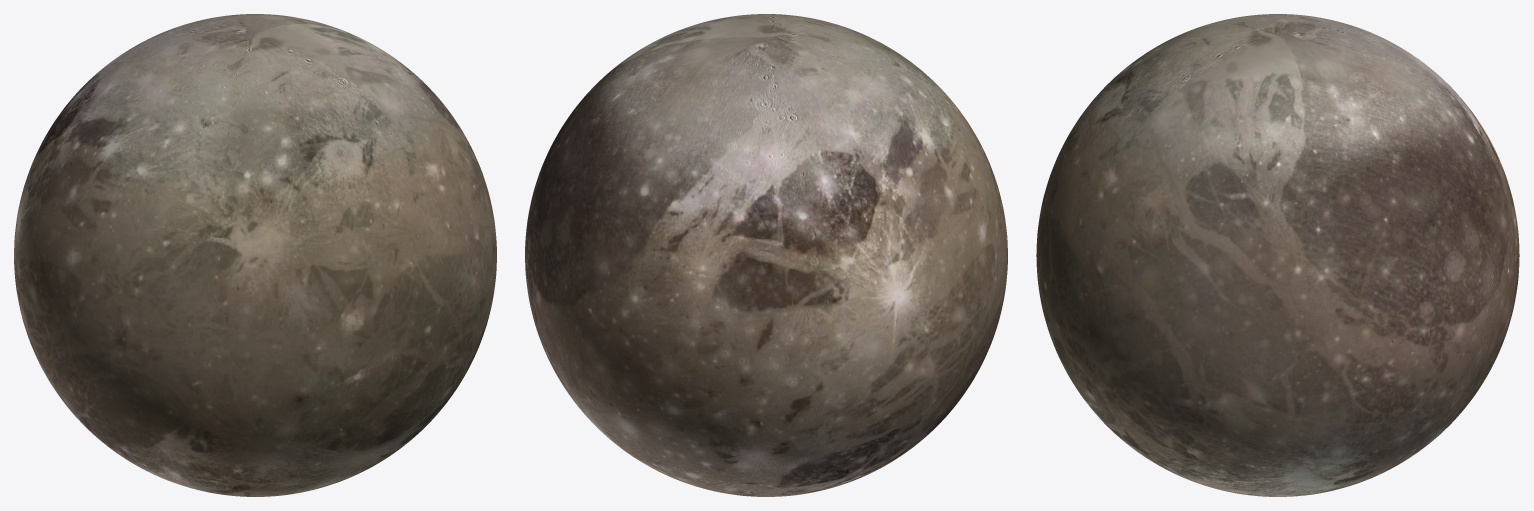
File: Ganymede_High.fbx
The picture shows the model from 3 angles, left to right: view 1: azimuth 30°, elevation 25°; view 2: azimuth 150°, elevation 25°; view 3: azimuth 270°, elevation 25°; orthographic projection.
Visible parts, largest first — view 1: ganymede_High; view 2: ganymede_High; view 3: ganymede_High.
Part boxes in pixels (x1,y1,x2,y2): ganymede_High: (14, 14, 496, 496); ganymede_High: (525, 14, 1007, 496); ganymede_High: (1036, 14, 1519, 496).
Bounding box in the file's own units: 200 × 200 × 200.
Materials: 1 (1 with a texture image).
